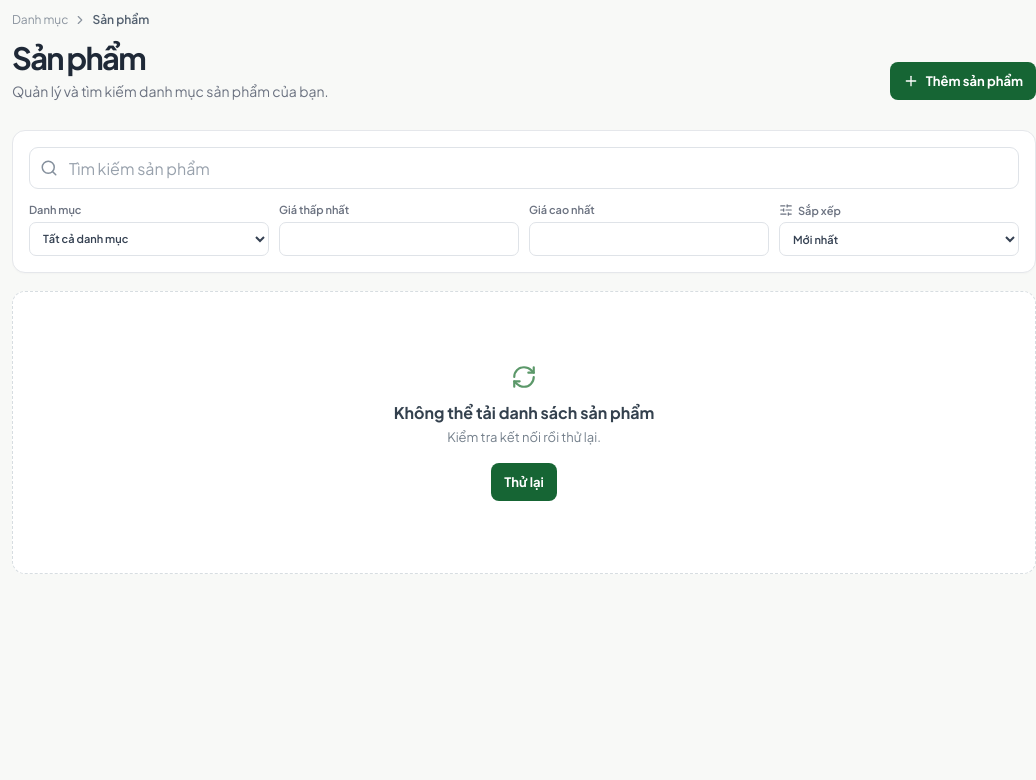
Test: ProductsPage › shows an error after bounded retries and recovers when the user presses retry
Expected: the heading "Không thể tải danh sách sản phẩm" is shown, [394,402,654,423]
Click the button "Thử lại".
click(524, 482)  # box [491,463,557,501]
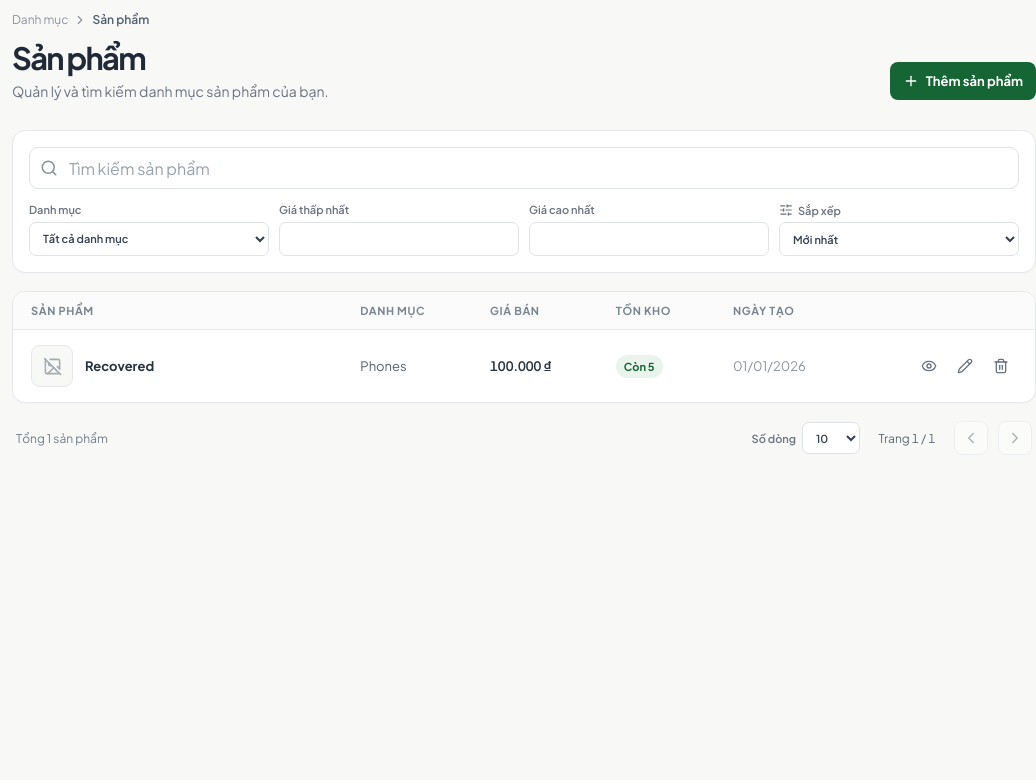
Result: the text "Recovered" is shown at [85,358,154,374]
Result: the heading "Không thể tải danh sách sản phẩm" is gone
